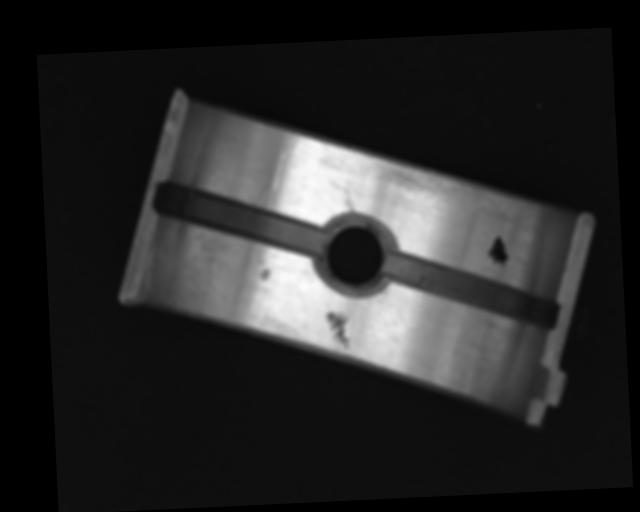blot: (487, 234, 509, 269)
bruise: (323, 309, 350, 350), (258, 266, 270, 282)
gap: (384, 243, 559, 335), (154, 176, 323, 261)
hole: (313, 209, 398, 296)
nick: (268, 132, 303, 190), (342, 188, 355, 215)
scratch: (384, 154, 530, 218)
